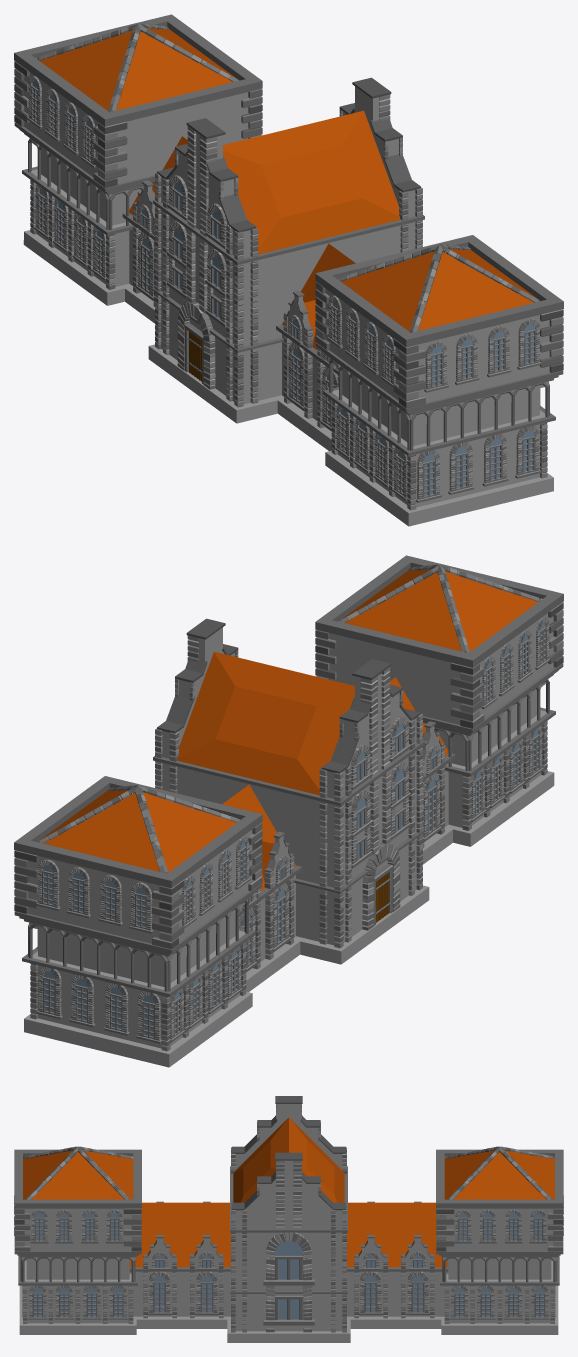
File: castle_town_manor_2.fbx
3 views of the same model, one above another, from view 1: azimuth 30°, elevation 25°; view 2: azimuth 150°, elevation 25°; view 3: azimuth 270°, elevation 25° (orthographic). The views are drawn at different scales.
Parts seen in each view (by area): view 1: Cylinder; view 2: Cylinder; view 3: Cylinder.
Boxes of the visible parts, x1=… form: Cylinder: x1=14, y1=14, x2=563, y2=526; Cylinder: x1=14, y1=555, x2=563, y2=1067; Cylinder: x1=14, y1=1096, x2=563, y2=1342.
Size of the model in its own units: 26807 by 9847 by 7584.
